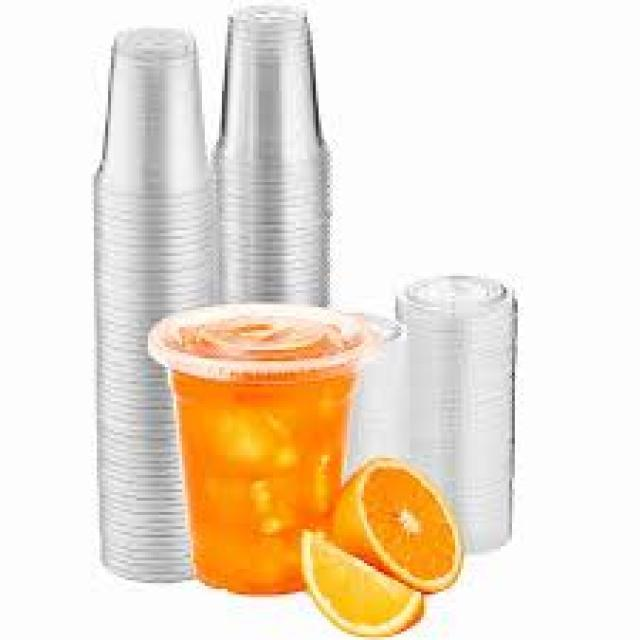cup: (149, 306, 382, 593)
